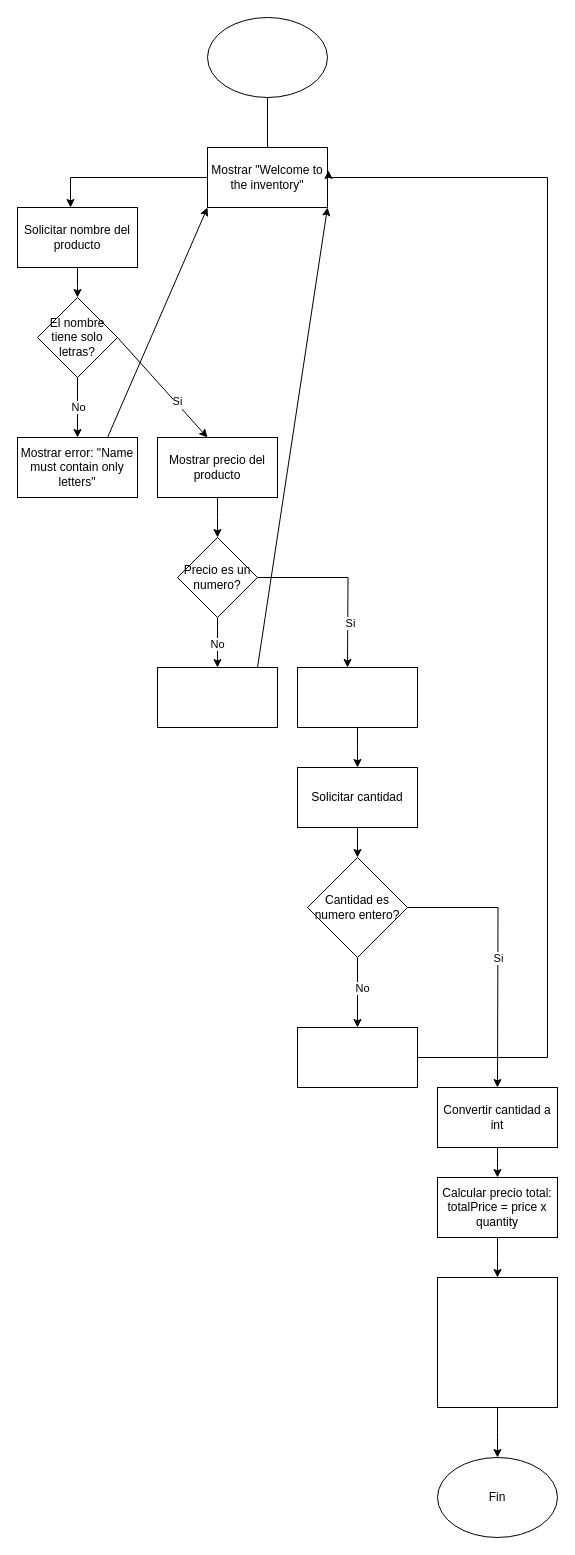
Image size: 575x1555. Some labels were removed from this diagram. Here are the shapes that lost their labels. From the top down, the centre of each, then its label:
(x=267, y=57): Inicio
(x=217, y=697): Mostrar error "Price must be a number"
(x=357, y=697): Convertir precio en float
(x=357, y=1057): Mostrar error: quantity must be a number
(x=497, y=1342): Mostrar resumen del inventario: -Nombre -Precio -Cantidad -Precio total
